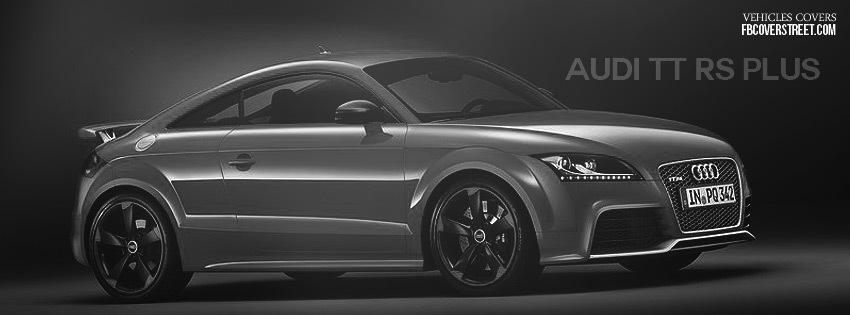car: (71, 45, 752, 302)
